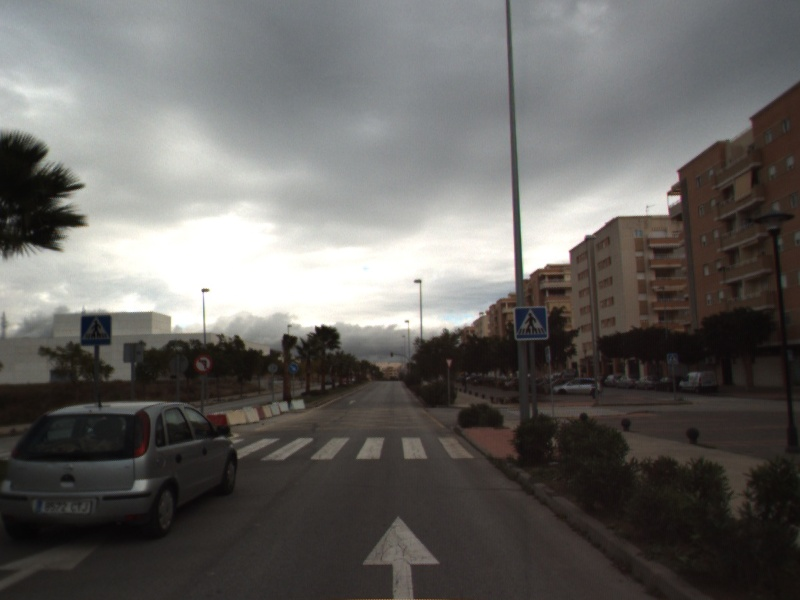STRAIGHT: (360, 514, 443, 600)
